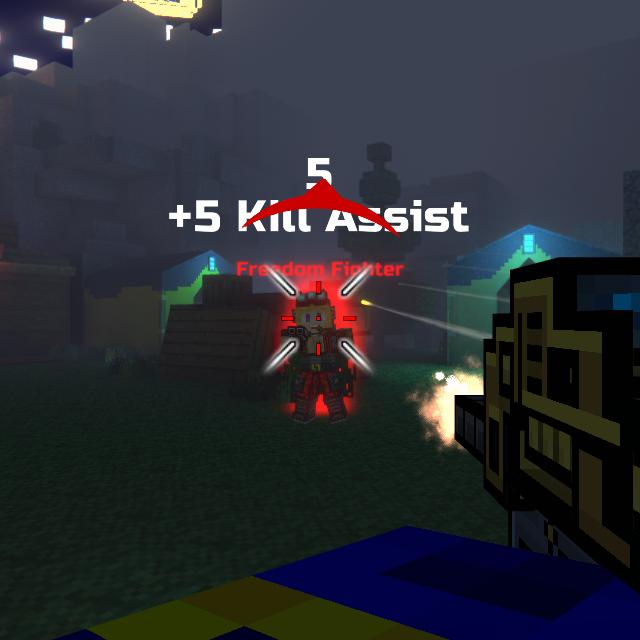Enemy: (281, 292, 358, 420)
